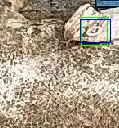text: (81, 17, 107, 45)
